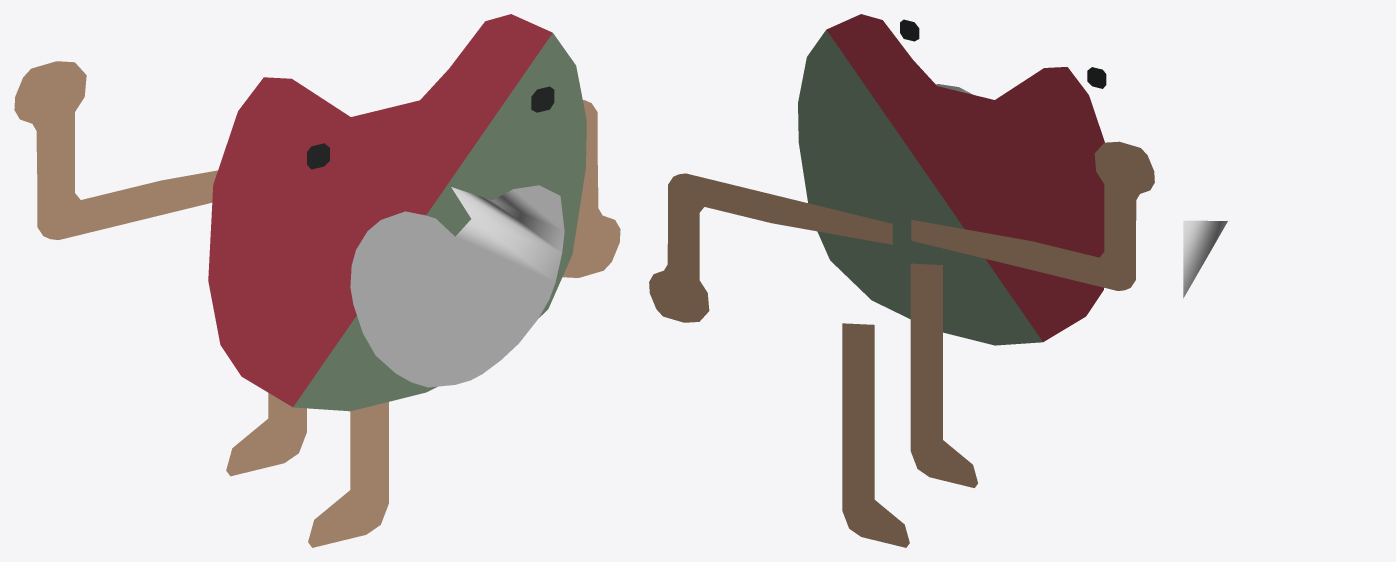
The model's file is file_haha_left_c.fbx.
3 renders of one model, left to right at view 1: azimuth 30°, elevation 25°; view 2: azimuth 150°, elevation 25°; view 3: azimuth 270°, elevation 25°, orthographic. The views are drawn at different scales.
Visible parts, largest first — view 1: file_haha_left_c1; view 2: file_haha_left_c1; view 3: file_haha_left_c1.
Boxes of the visible parts, x1,y1,x2,y2 form: file_haha_left_c1: (14, 14, 620, 547); file_haha_left_c1: (649, 14, 1154, 547); file_haha_left_c1: (1183, 220, 1227, 298).
Size of the model in its own units: 2.01 by 1.76 by 0.7588.
